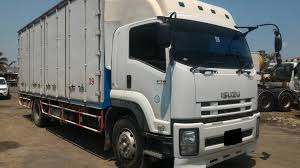truck: (18, 1, 261, 167)
